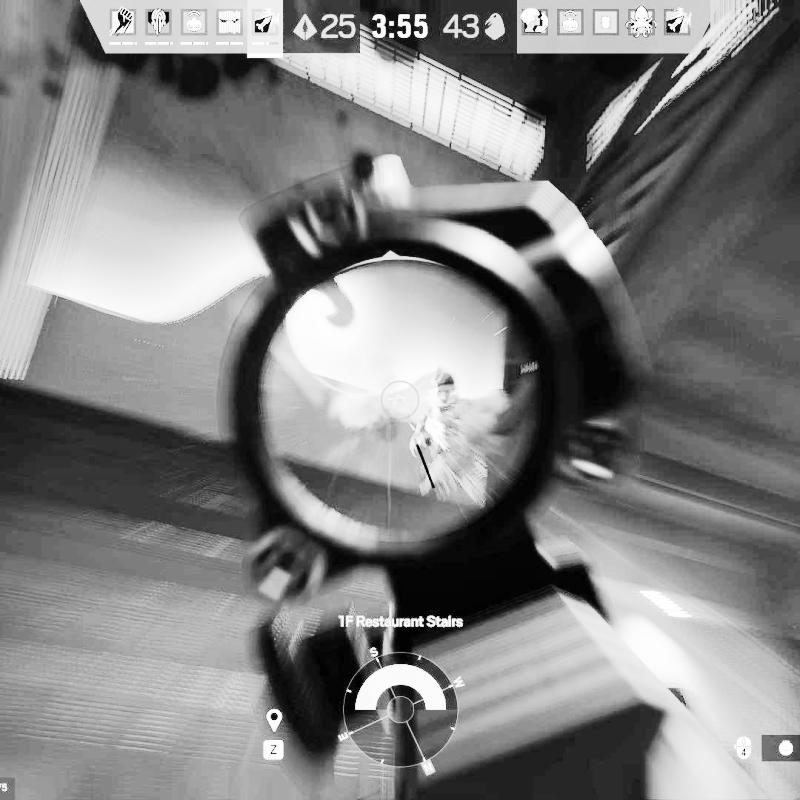Character: (410, 370, 497, 506)
Head: (433, 372, 461, 404)
